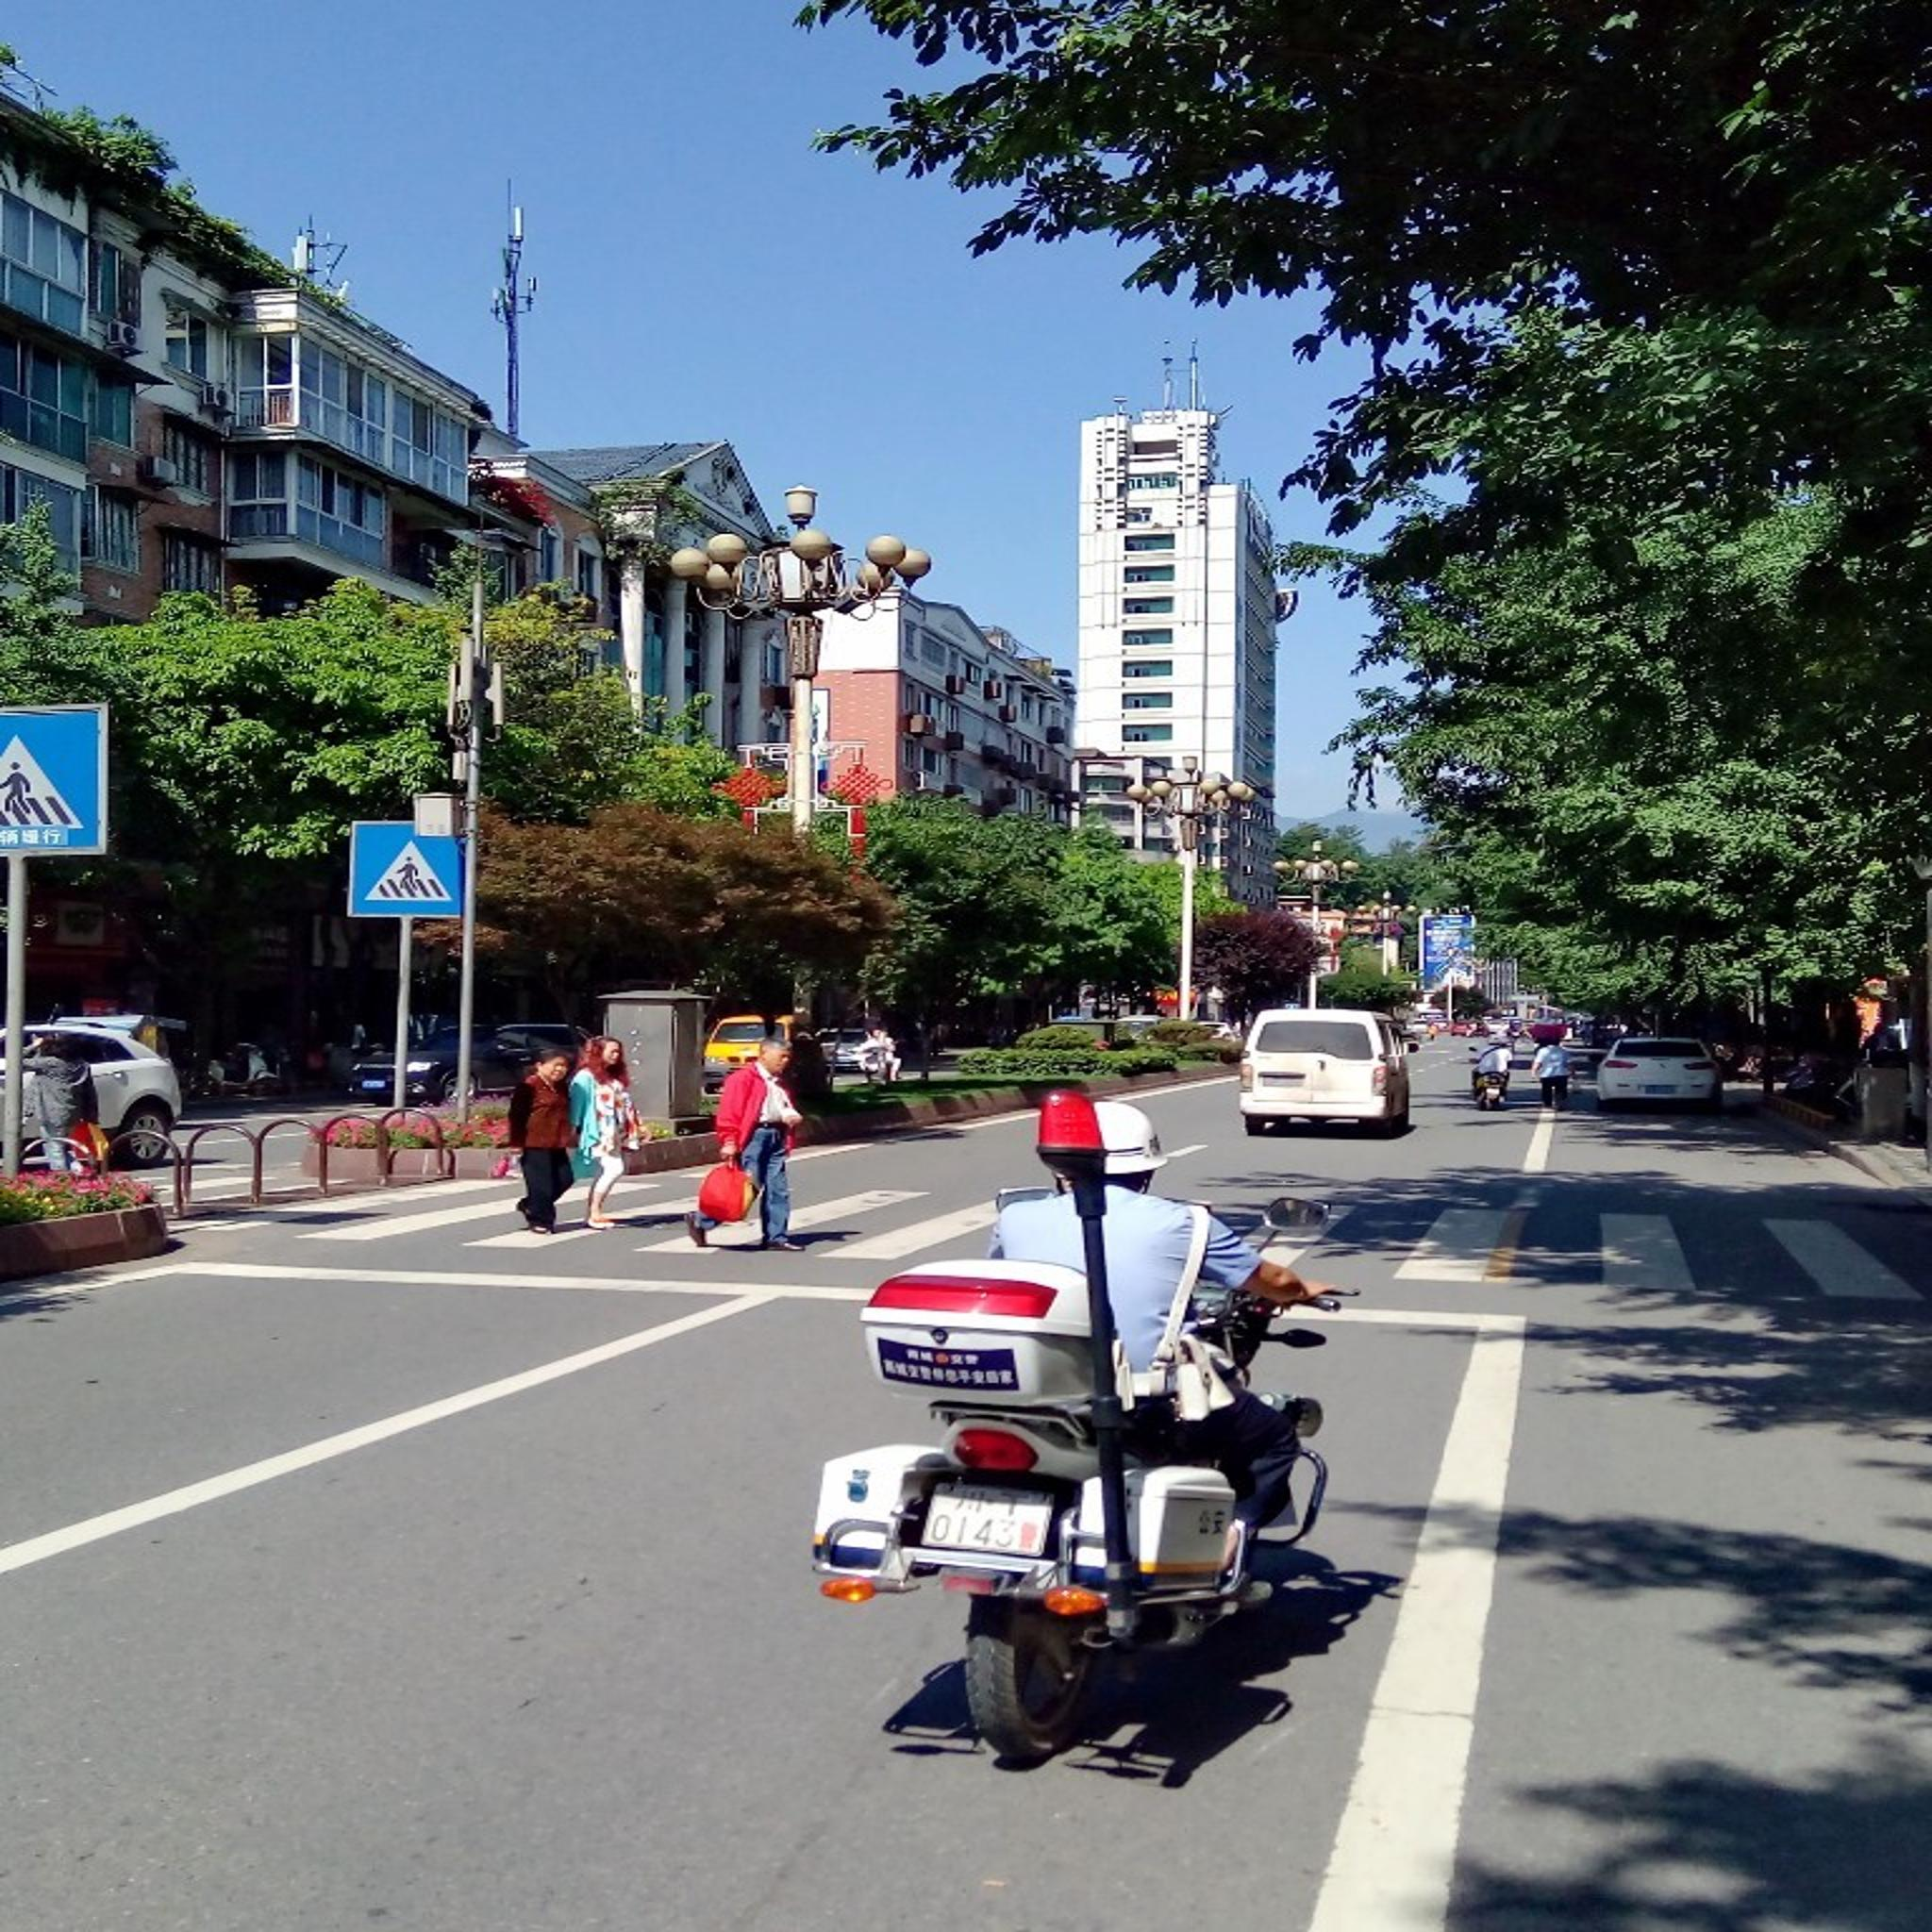ip: (354, 823, 458, 922)
